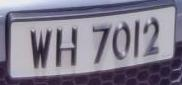0: (112, 19, 134, 65)
1: (131, 17, 144, 63)
2: (143, 14, 161, 61)
7: (88, 19, 113, 70)
H: (54, 23, 83, 73)
W: (27, 23, 55, 74)
